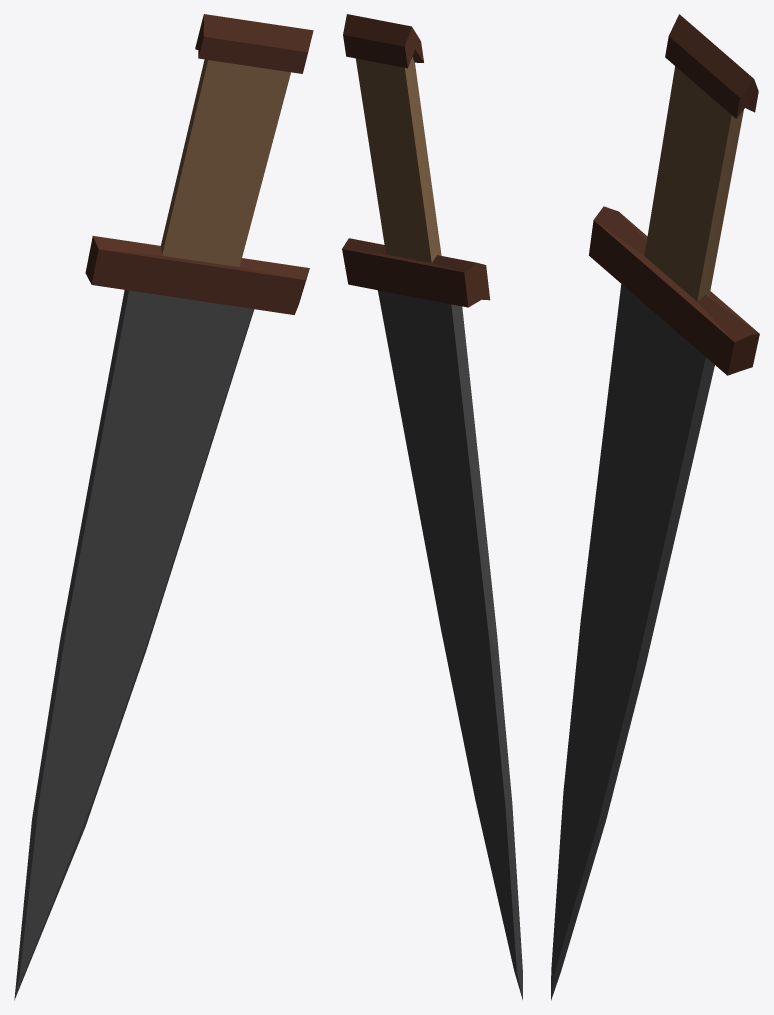
File: Bandit.fbx
3 views of the same model, side by side, from view 1: azimuth 30°, elevation 25°; view 2: azimuth 150°, elevation 25°; view 3: azimuth 330°, elevation 25° (orthographic). The views are drawn at different scales.
Visible parts, largest first — view 1: Cube; view 2: Cube; view 3: Cube.
Part boxes in pixels (<box>): Cube: <box>14,14,313,1000</box>; Cube: <box>342,14,522,999</box>; Cube: <box>551,14,759,1000</box>.
Size of the model in its own units: 193 by 441 by 1689.
